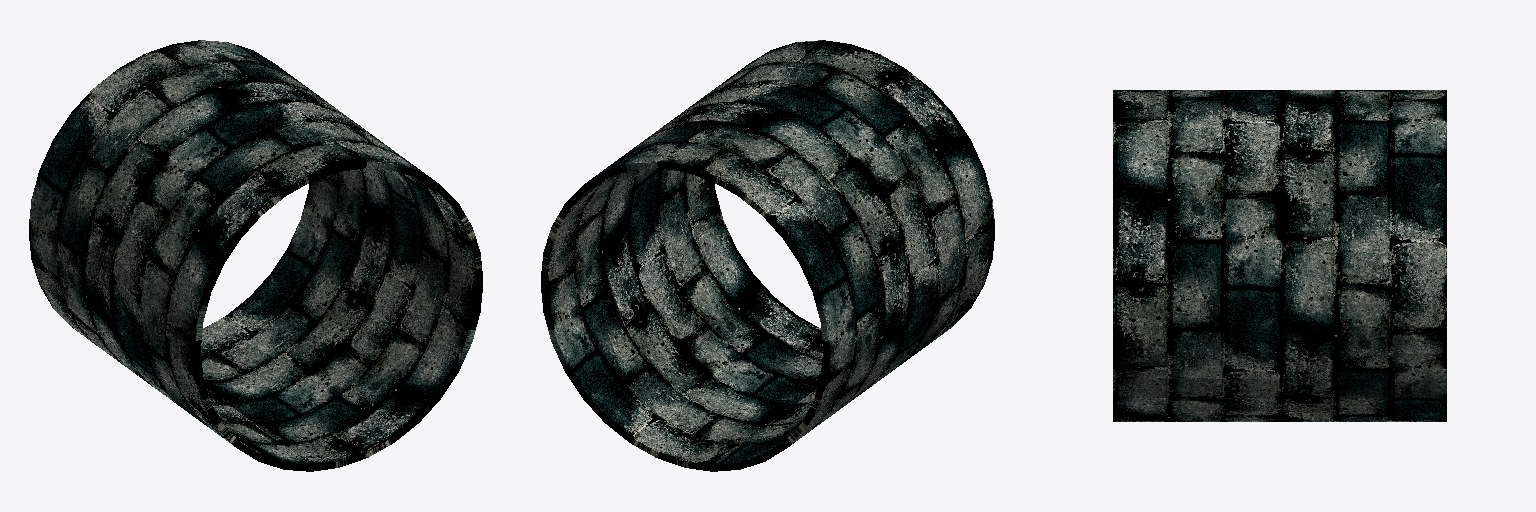
3 views of the same model, side by side, from view 1: azimuth 30°, elevation 25°; view 2: azimuth 150°, elevation 25°; view 3: azimuth 270°, elevation 25° (orthographic).
Parts seen in each view (by area): view 1: cylinder.001; view 2: cylinder.001; view 3: cylinder.001.
Part boxes in pixels (x1,y1,x2,y2): cylinder.001: (29,40,482,471); cylinder.001: (541,40,994,471); cylinder.001: (1113,90,1446,421).
Size of the model in its own units: 5 by 5 by 5.
1 materials, 1 textured.